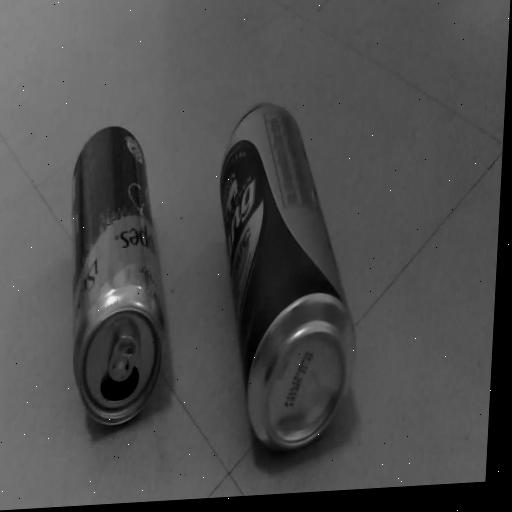canned: (191, 83, 382, 481), (54, 111, 181, 448)
